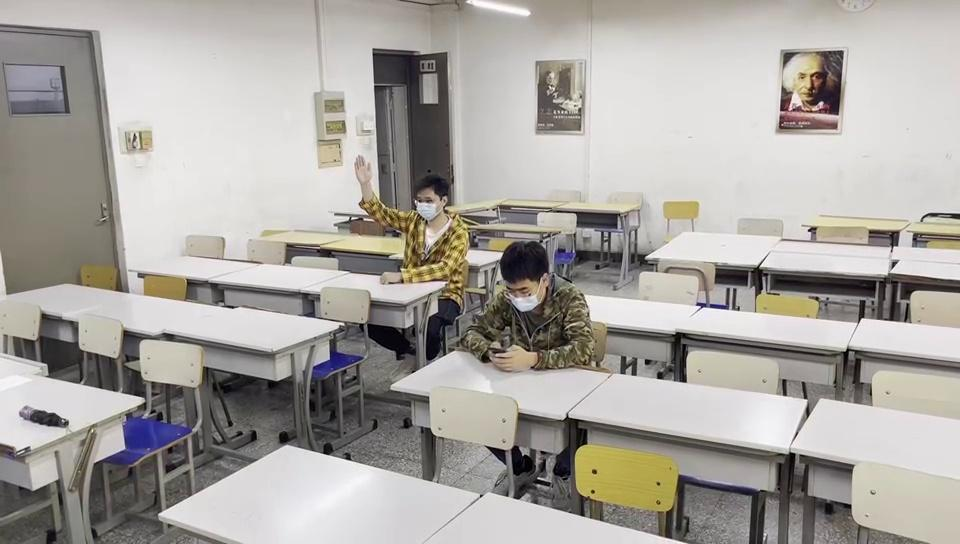phone: (473, 241, 592, 370)
study: (354, 155, 469, 284)
